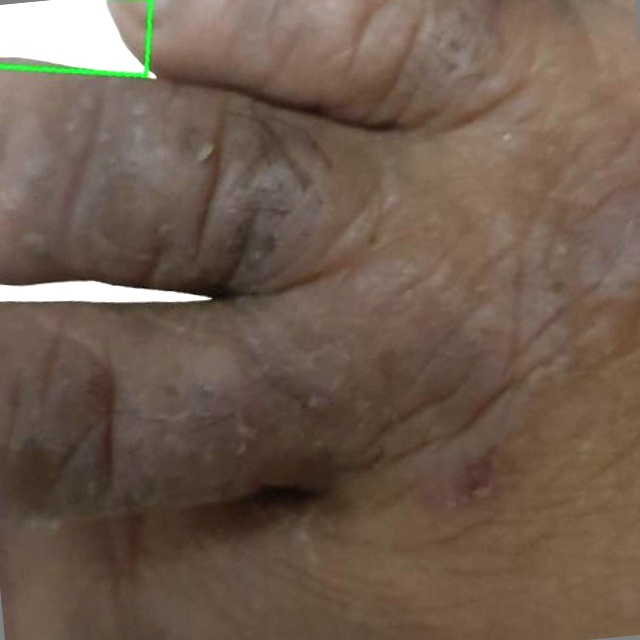Eczema: (0, 0, 152, 76)
